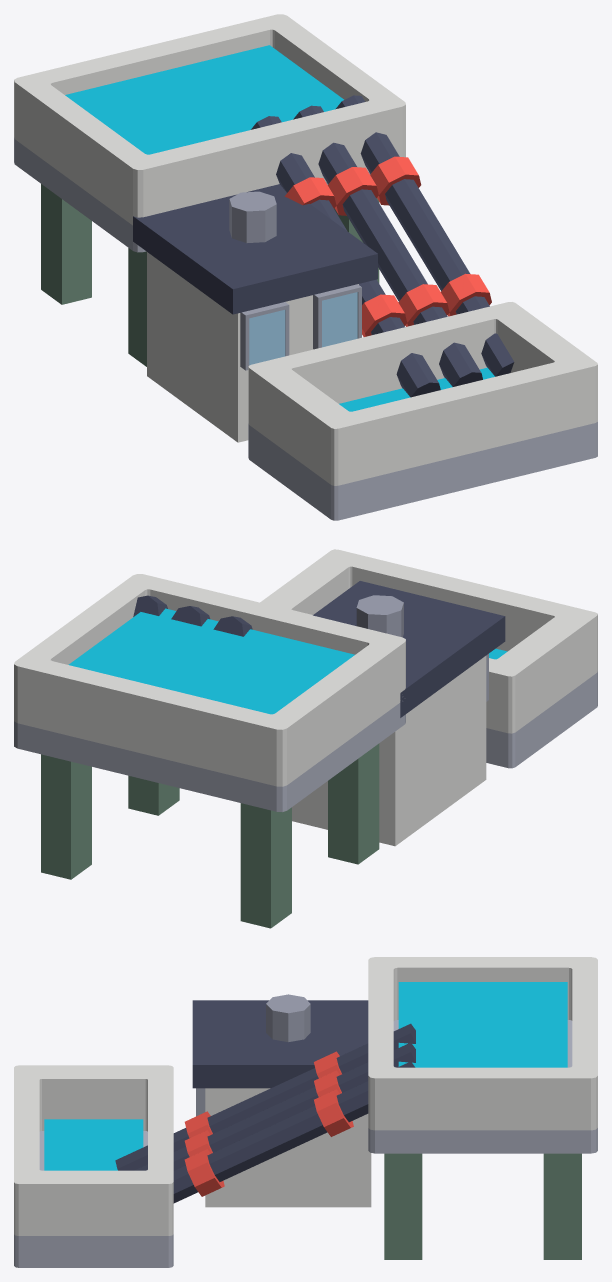
File: hydro-1x2-t3-tone-a.glb
3 renders of one model, top to bottom at view 1: azimuth 30°, elevation 25°; view 2: azimuth 150°, elevation 25°; view 3: azimuth 270°, elevation 25°, orthographic. The views are drawn at different scales.
Visible parts, largest first — view 1: hydro-1x2-t3-tone-a; view 2: hydro-1x2-t3-tone-a; view 3: hydro-1x2-t3-tone-a.
Part boxes in pixels (x1=…): hydro-1x2-t3-tone-a: x1=14, y1=14, x2=597, y2=520; hydro-1x2-t3-tone-a: x1=14, y1=549, x2=597, y2=928; hydro-1x2-t3-tone-a: x1=14, y1=957, x2=597, y2=1267.
Bounding box in the file's own units: 0.9 × 0.6645 × 1.83.
Materials: 1 (1 with a texture image).
